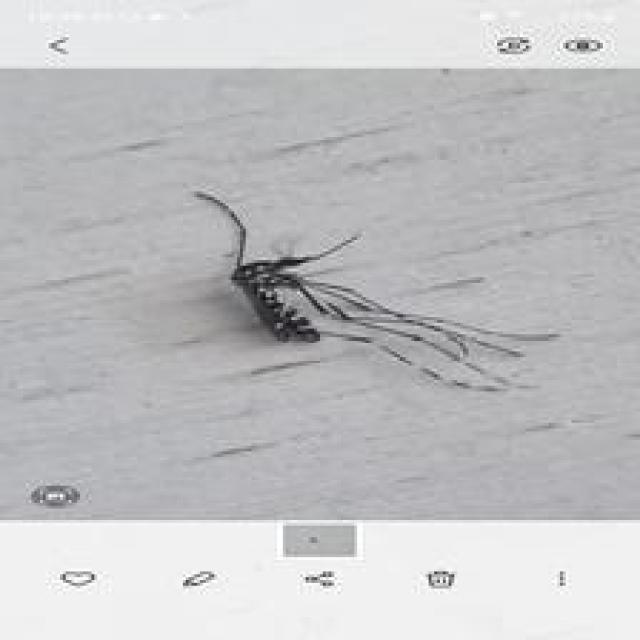Aedes albopictus: (190, 189, 559, 394)
